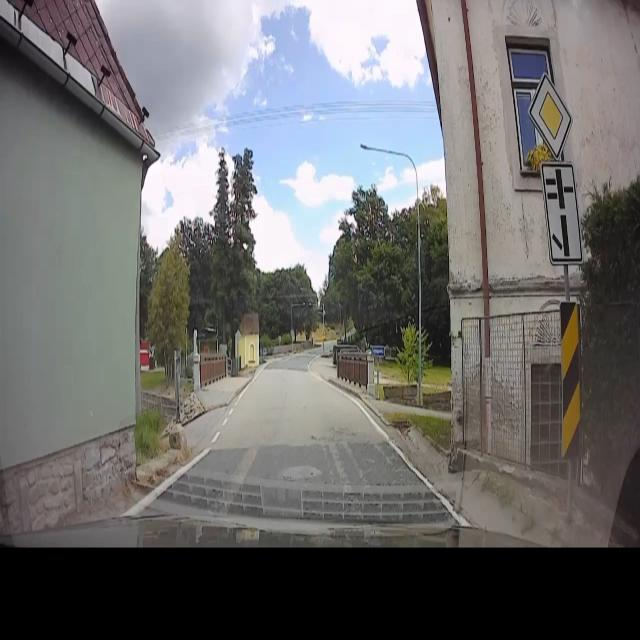Pedestrian crosswalk: (320, 329, 328, 338)
